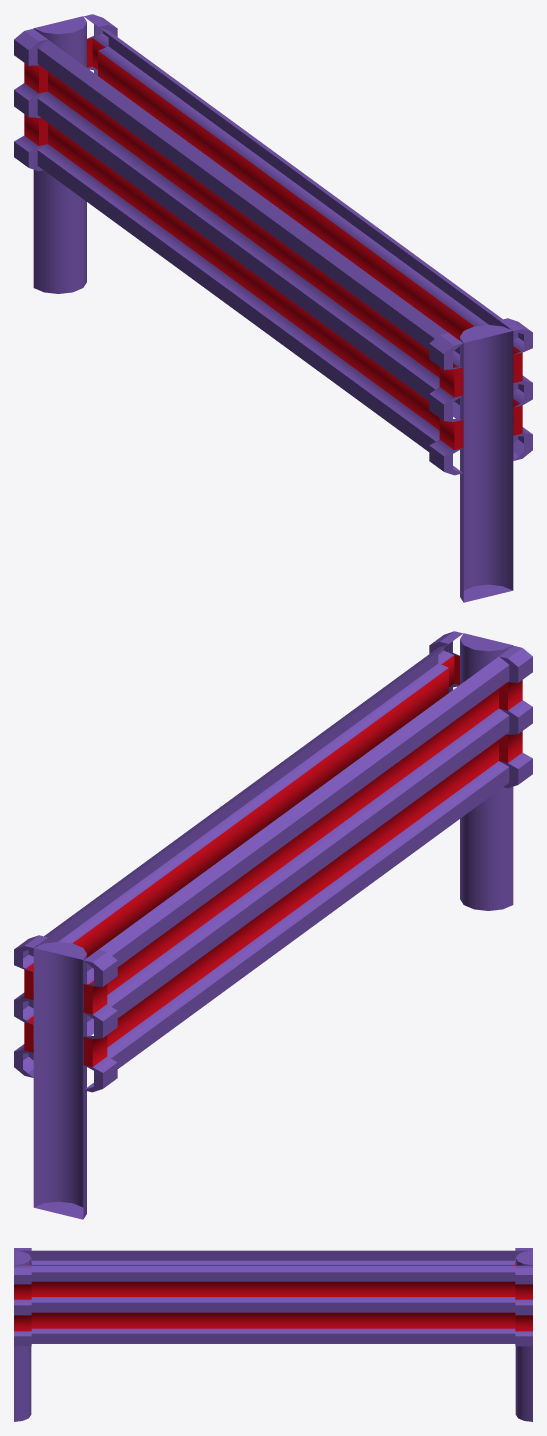
Rendered from guardrail (1).fbx.
3 views of the same model, one above another, from view 1: azimuth 30°, elevation 25°; view 2: azimuth 150°, elevation 25°; view 3: azimuth 270°, elevation 25° (orthographic). The views are drawn at different scales.
Parts seen in each view (by area): view 1: guardrail, pillar; view 2: guardrail, pillar; view 3: guardrail, pillar.
Part boxes in pixels (box(x1,y1,x2,y2)): guardrail: box(14, 14, 532, 475); pillar: box(33, 16, 513, 602); guardrail: box(14, 631, 532, 1092); pillar: box(33, 633, 513, 1219); guardrail: box(14, 1248, 532, 1346); pillar: box(14, 1250, 532, 1421).
Size of the model in its own units: 35.88 by 100 by 300.
